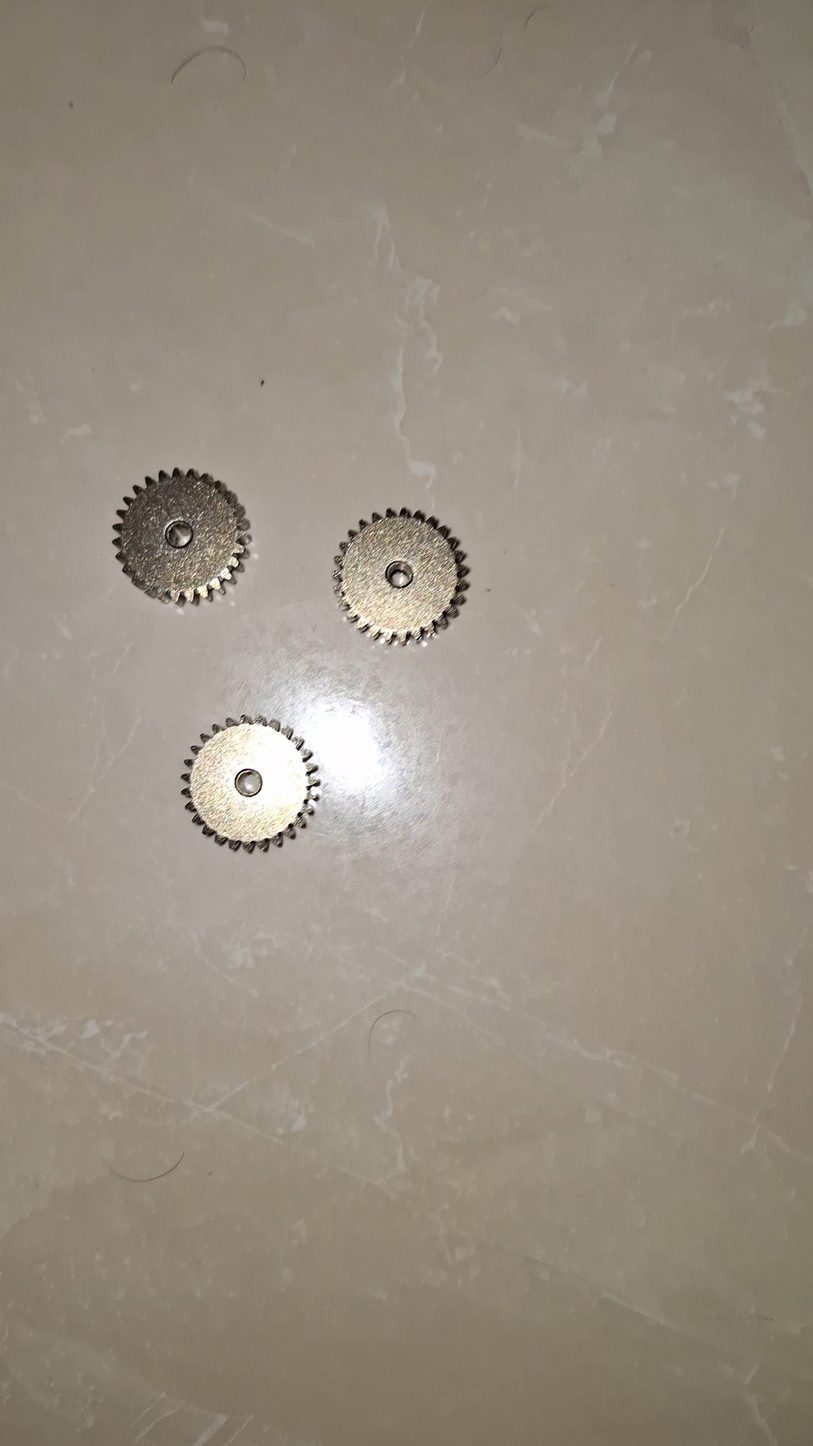spur gear: (182, 715, 319, 852), (333, 508, 468, 643), (114, 468, 248, 603)
